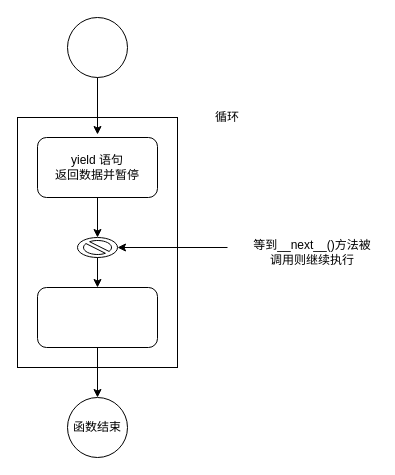
Some shapes in this 395 by 475 pixel diagram are drawn without their labels. The centre of each missing label's shape, as x and y in pixels:
"函数开始" belongs at [97,47].
"执行yield之后语句" belongs at [97,317].
